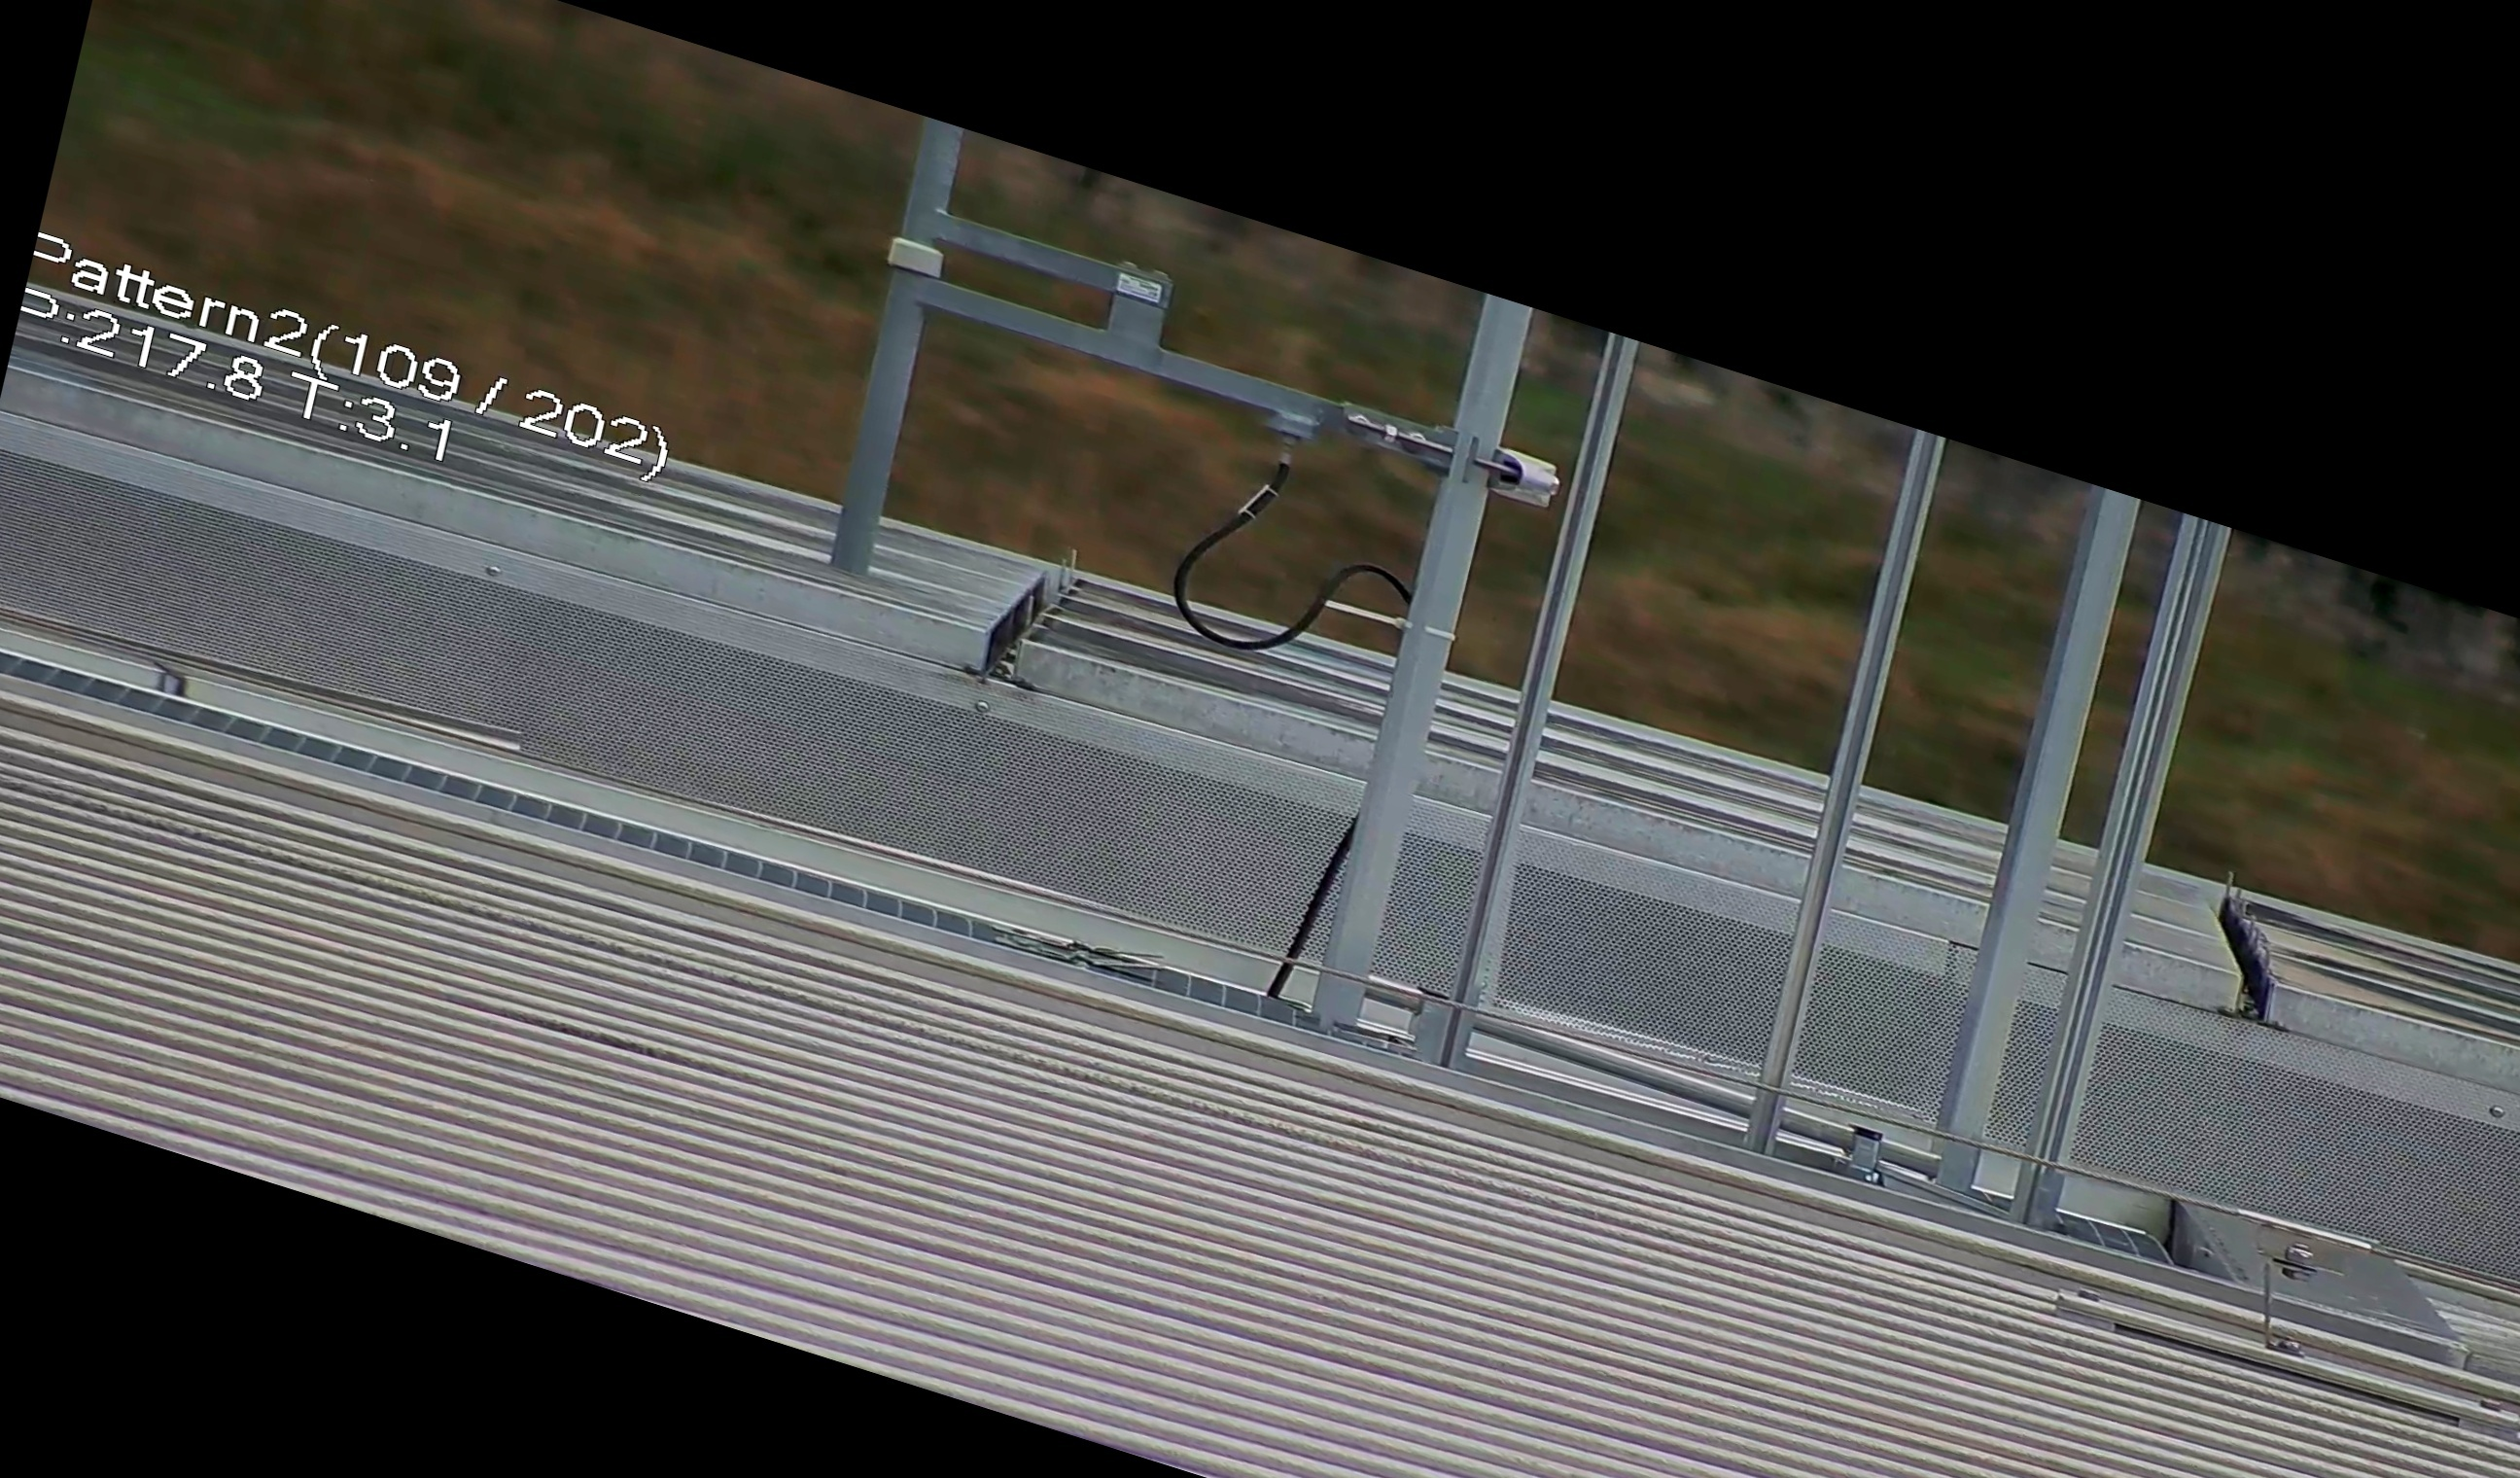Other: (2191, 874, 2332, 1038)
